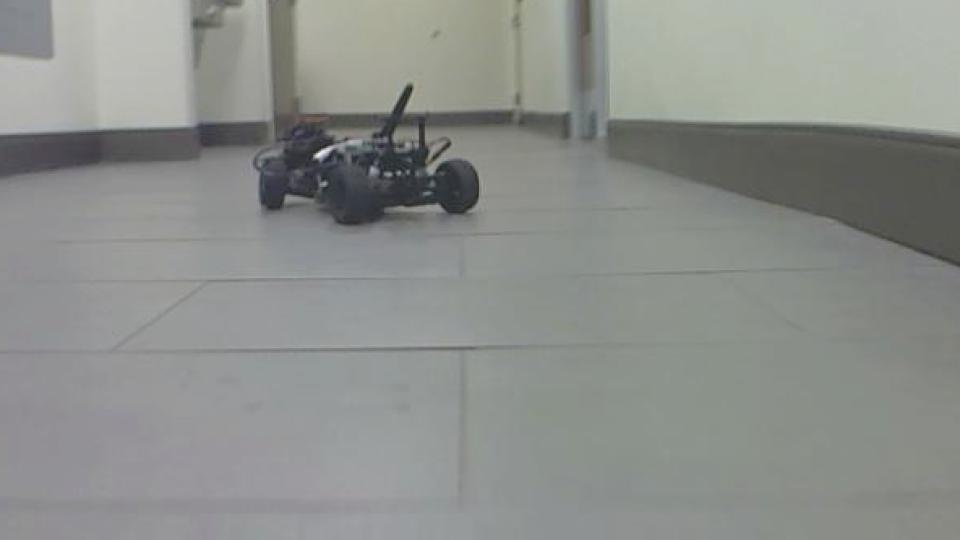car: (251, 80, 485, 228)
